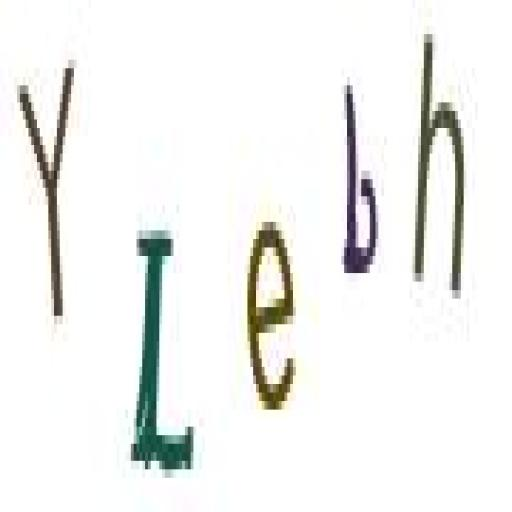L: (126, 206, 200, 490)
Y: (16, 44, 90, 348)
b: (339, 74, 382, 298)
e: (240, 202, 302, 428)
h: (412, 15, 469, 319)
